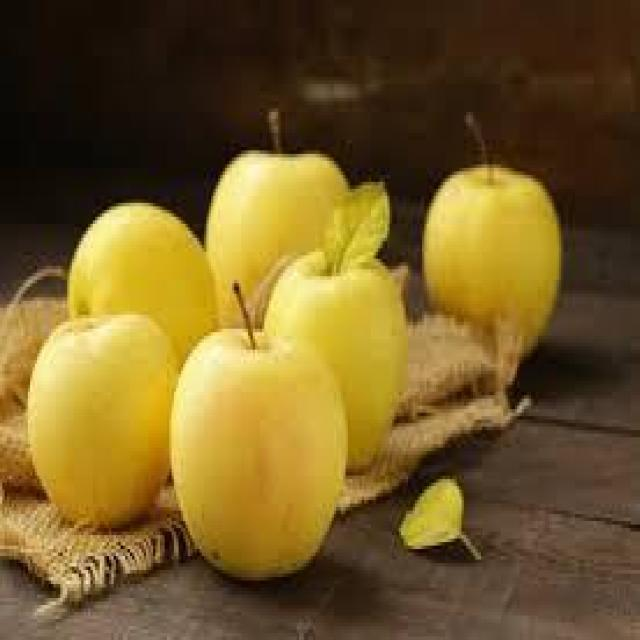maca: (178, 308, 350, 591), (412, 146, 564, 371), (29, 302, 174, 532), (272, 237, 404, 475), (204, 118, 350, 316), (56, 201, 223, 343)
